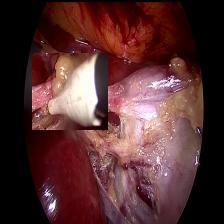Hook: (31, 52, 107, 129)
